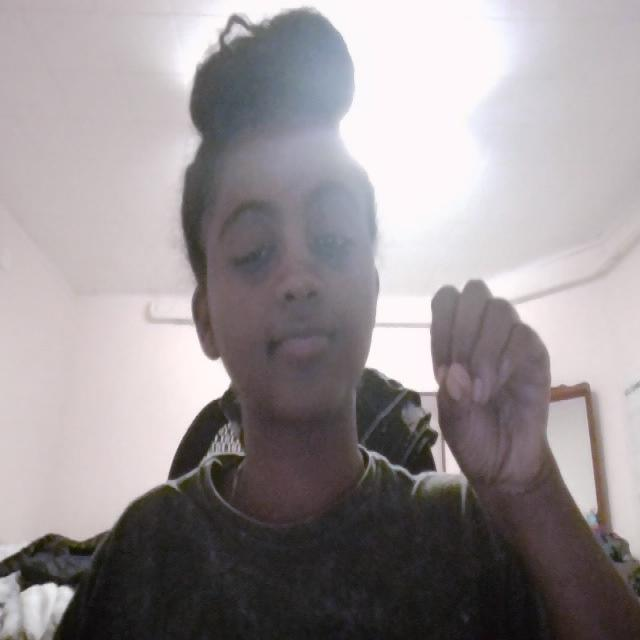Yes: (415, 262, 581, 499)
